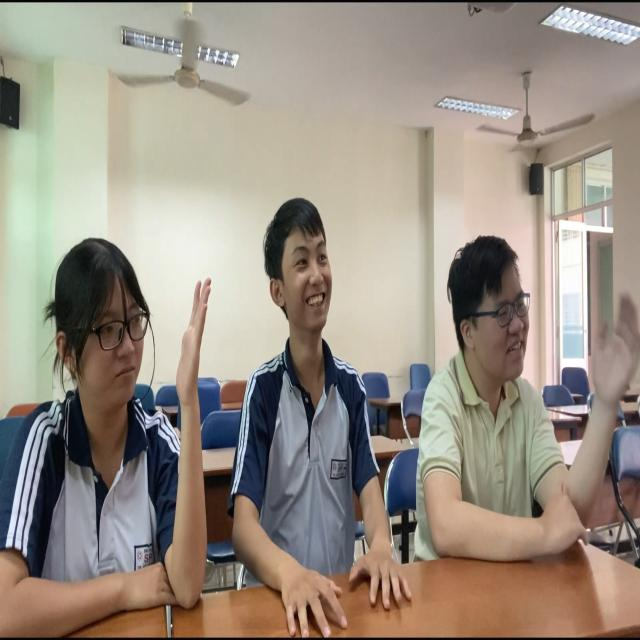raise_hand: (8, 196, 222, 625), (408, 228, 635, 579)
